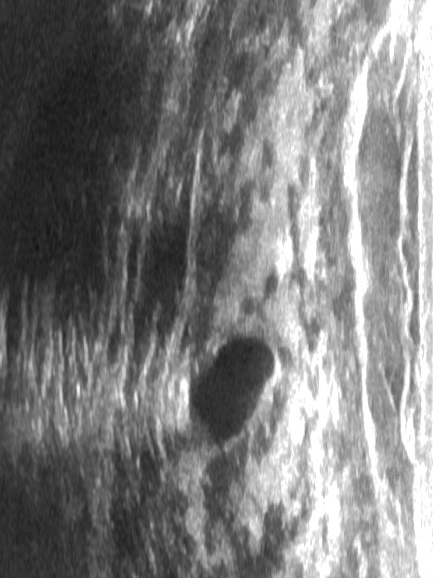Benign: (182, 336, 281, 442)
